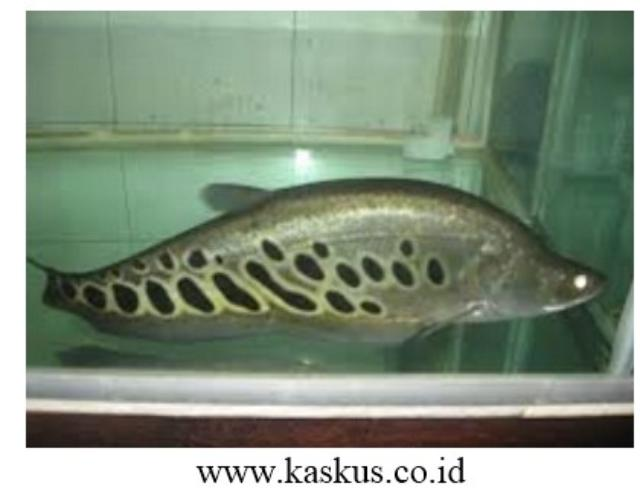Mulut: (535, 259, 623, 321)
Sirip Dada: (410, 292, 498, 350)
Sirip Punggung: (190, 168, 282, 224)
